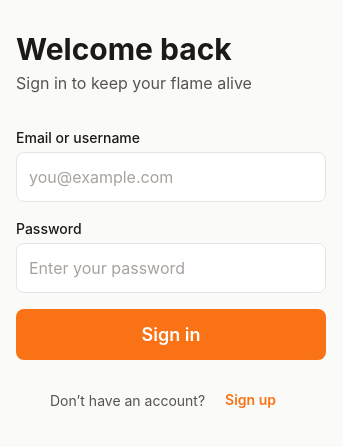
Scenario: SignInScreen › clears field error when user types
# Trigger validation errors
Click the button "Sign in". click: (171, 335)
box: [16,309,326,360]
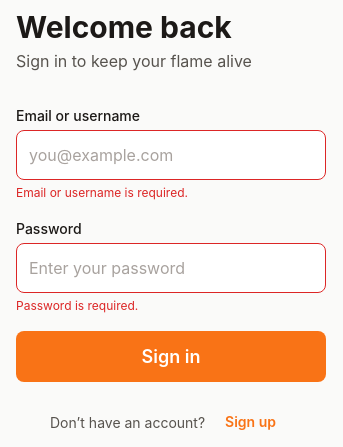
Expected: the text "Email or username is required." is shown, [16,185,188,200]
# Type in the field
Type "a" into the field with test id "identifier-input". click: (171, 155)
box: [16,130,326,180]
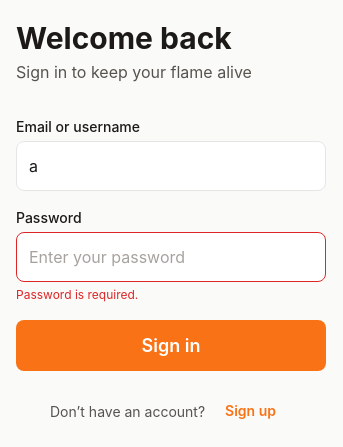
Expected: the text "Email or username is required." is gone
